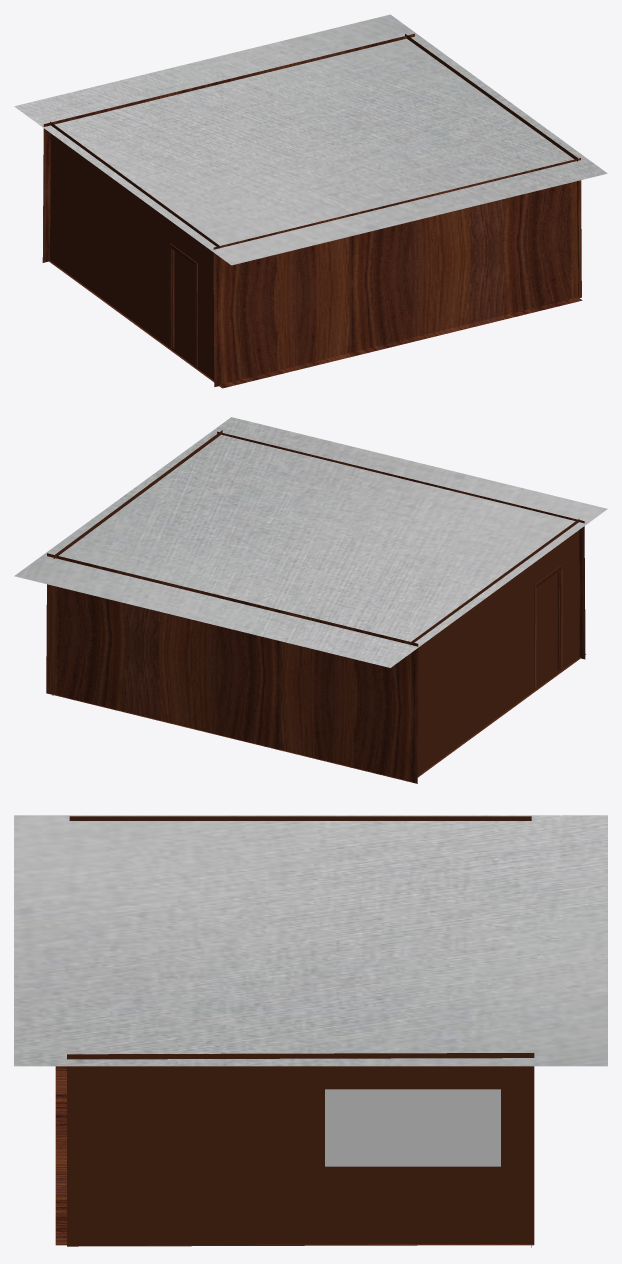
File: PhongNgu6.glb
3 views of the same model, one above another, from view 1: azimuth 30°, elevation 25°; view 2: azimuth 150°, elevation 25°; view 3: azimuth 270°, elevation 25° (orthographic). The views are drawn at different scales.
Visible parts, largest first — view 1: roof, wall 3, wall2, wall 4, nen, door, wall1; view 2: roof, wall 4, wall2, wall 3, door, wall1, nen; view 3: roof, wall1, glassWindow, nen, wall2.
Boxes of the visible parts, <box> form: roof: <box>14,14,607,265</box>; wall 3: <box>213,158,581,386</box>; wall2: <box>50,122,219,380</box>; wall 4: <box>42,33,414,262</box>; nen: <box>48,260,582,388</box>; door: <box>169,243,197,367</box>; wall1: <box>405,34,578,297</box>; roof: <box>14,417,607,667</box>; wall 4: <box>46,553,418,783</box>; wall2: <box>410,519,579,775</box>; wall 3: <box>217,431,585,659</box>; door: <box>534,565,562,688</box>; wall1: <box>52,430,222,695</box>; nen: <box>51,654,585,782</box>; roof: <box>14,815,607,1066</box>; wall1: <box>67,1053,534,1246</box>; glassWindow: <box>325,1089,500,1166</box>; nen: <box>55,1066,533,1245</box>; wall2: <box>69,816,531,820</box>.
Size of the model in its own units: 156 by 55.86 by 156.
15 materials, 5 textured.
